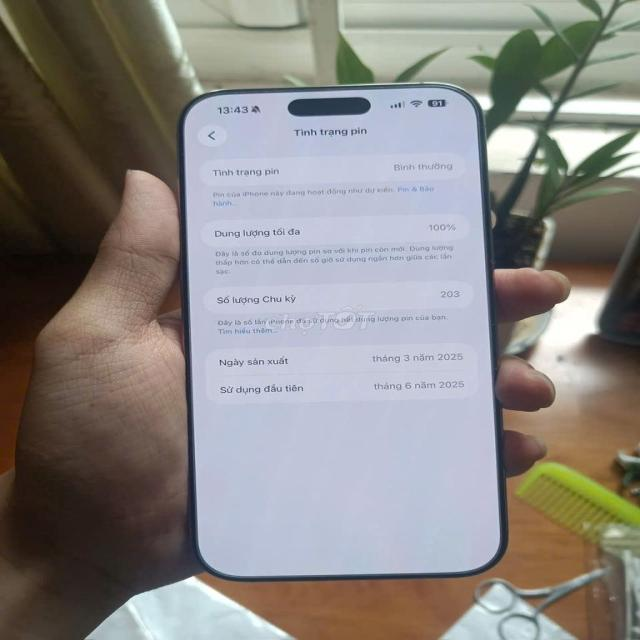gen_16: (179, 82, 506, 580)
